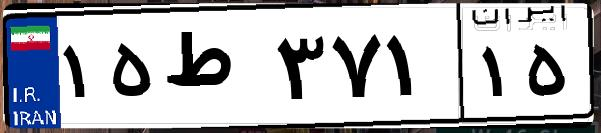1: (385, 28, 445, 110), (57, 26, 110, 100), (475, 38, 525, 113)
3: (270, 28, 330, 110)
5: (525, 38, 570, 115), (110, 28, 158, 98)
7: (330, 28, 385, 110)
ط: (158, 20, 270, 120)
